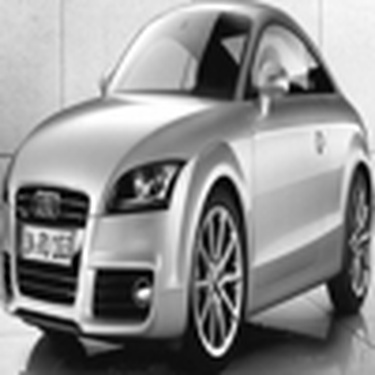car: (1, 4, 371, 372)
